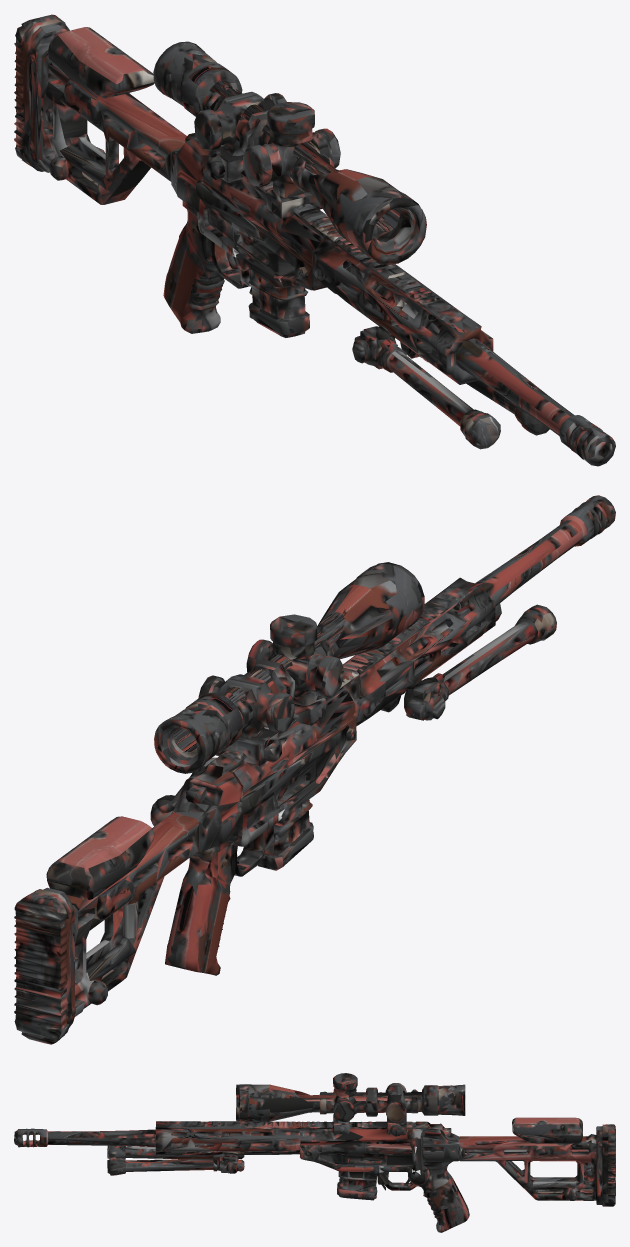
The picture shows the model from 3 angles, top to bottom: view 1: azimuth 30°, elevation 25°; view 2: azimuth 150°, elevation 25°; view 3: azimuth 270°, elevation 25°; orthographic projection. The views are drawn at different scales.
Visible parts, largest first — view 1: Body, Magazine; view 2: Body, Magazine; view 3: Body, Magazine, ChargingHandle.
Part boxes in pixels (x1,y1,x2,y2): Body: (14, 14, 615, 466); Magazine: (232, 246, 309, 337); Body: (14, 495, 615, 1044); Magazine: (258, 774, 328, 870); Body: (14, 1073, 615, 1232); Magazine: (331, 1164, 385, 1200); ChargingHandle: (410, 1146, 428, 1172).
Bounding box in the file's own units: 0.2164 × 0.5136 × 1.85.
